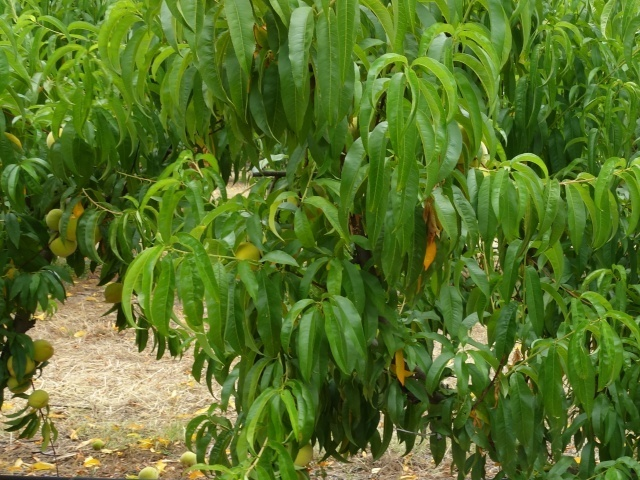peach: (46, 232, 81, 262), (2, 352, 37, 378), (24, 337, 57, 364), (230, 239, 262, 266), (289, 441, 316, 472), (2, 373, 35, 398), (55, 217, 83, 242), (102, 281, 127, 308), (43, 207, 68, 232), (26, 388, 51, 411)
